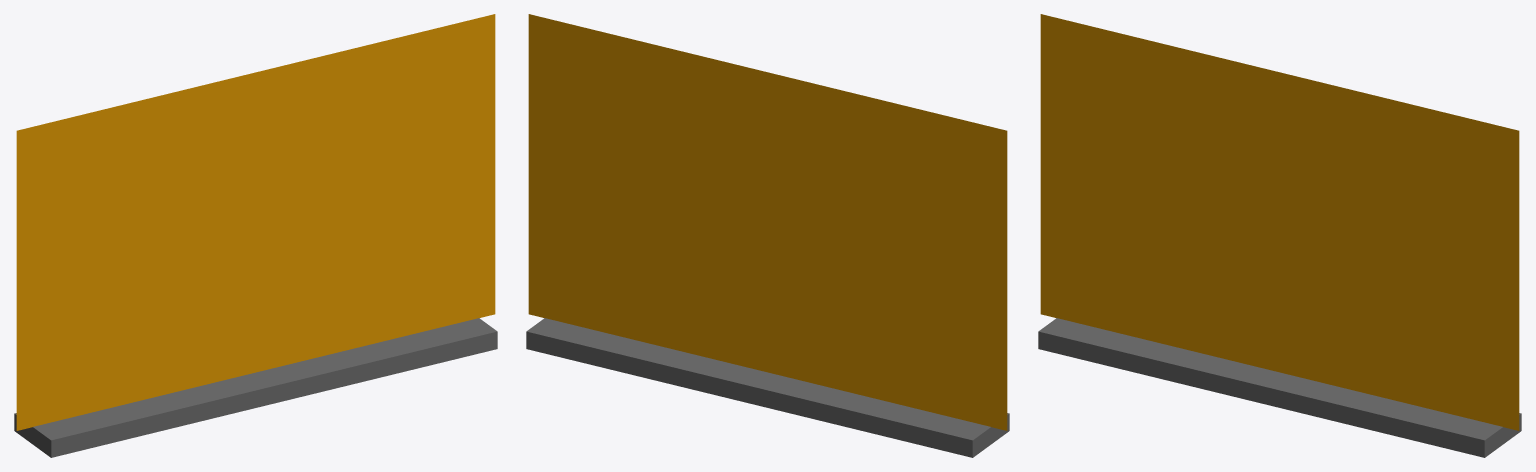
File: end_wall.fbx
3 views of the same model, side by side, from view 1: azimuth 30°, elevation 25°; view 2: azimuth 150°, elevation 25°; view 3: azimuth 330°, elevation 25° (orthographic).
Parts seen in each view (by area): view 1: end_wall, end_base; view 2: end_wall, end_base; view 3: end_wall, end_base.
Boxes of the visible parts, x1,y1,x2,y2 form: end_wall: (16,14,495,430); end_base: (14,318,497,457); end_wall: (528,14,1007,430); end_base: (526,318,1009,457); end_wall: (1040,14,1519,430); end_base: (1038,318,1521,457).
Size of the model in its own units: 750 by 476 by 99.96.
